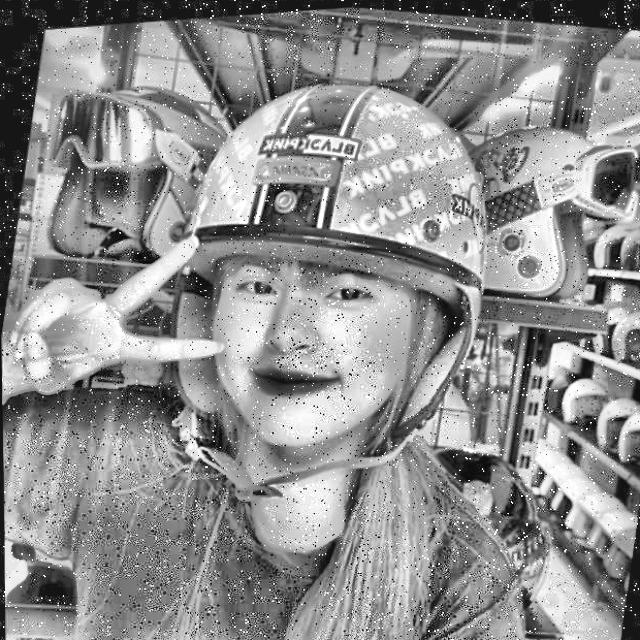Helmet: (130, 36, 520, 538)
